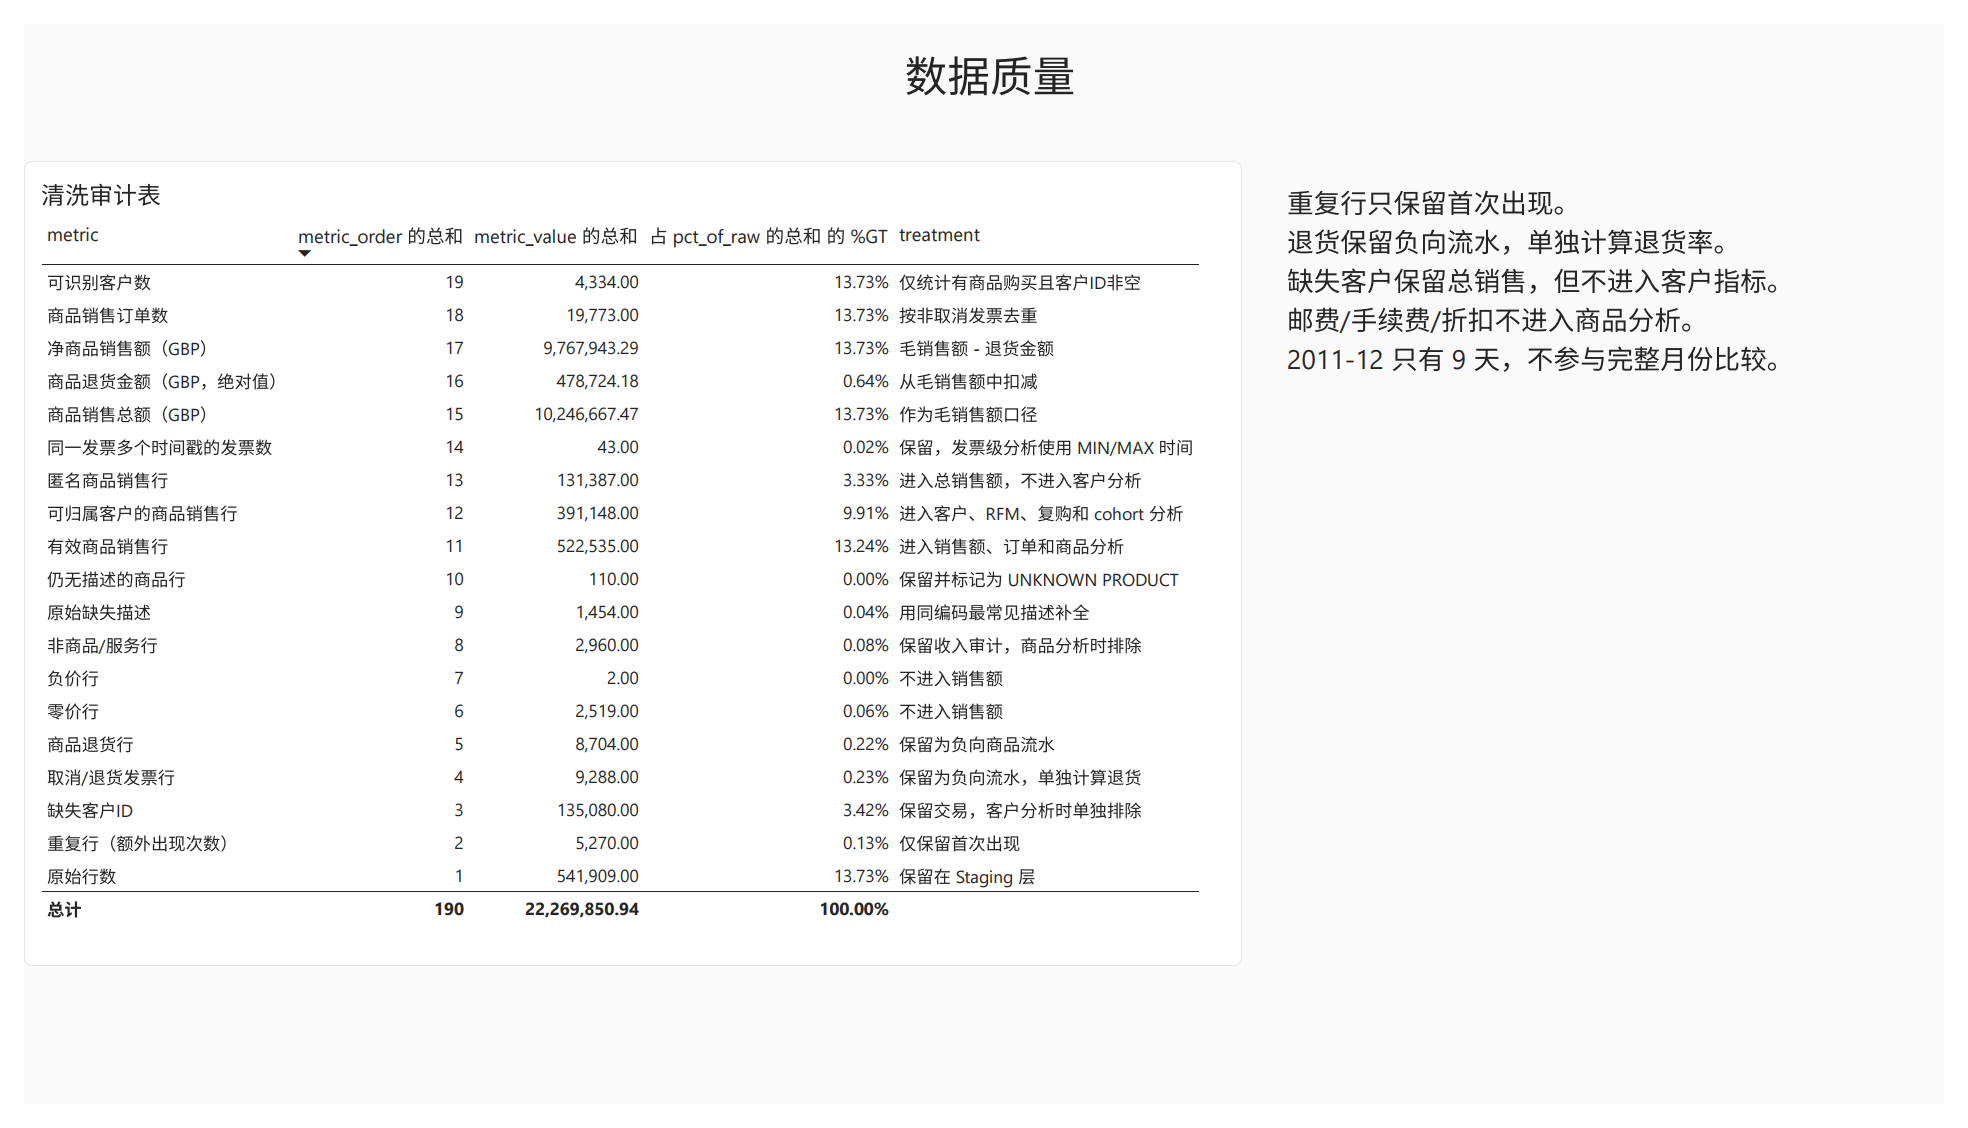

Layout of this report page (visuals, bound fields, positions):
{"tool":"powerbi","page":{"name":"第 5 页","canvas":[1920,1080],"ordinal":4},"visuals":[{"type":"textbox","box":[10.5,0,1910.5,84.2],"z":0},{"type":"tableEx","title":"清洗审计表","fields":{"Values":["质量审计.metric","Sum(质量审计.metric_order)","Sum(质量审计.metric_value)","Sum(质量审计.pct_of_raw)","质量审计.treatment"]},"box":[0,136.8,1218.4,805.3],"z":1},{"type":"textbox","box":[1263.2,157.9,657.9,784.2],"z":2}]}

Visuals, with their boxes in screenshot pixels (x1, y1, x2, y2), scaled from the page's 1920x1080 canvas onto the 1968x1128 screenshot:
textbox: bbox=(11, 0, 1967, 88)
"清洗审计表" tableEx: bbox=(0, 143, 1249, 984)
textbox: bbox=(1295, 165, 1967, 984)
